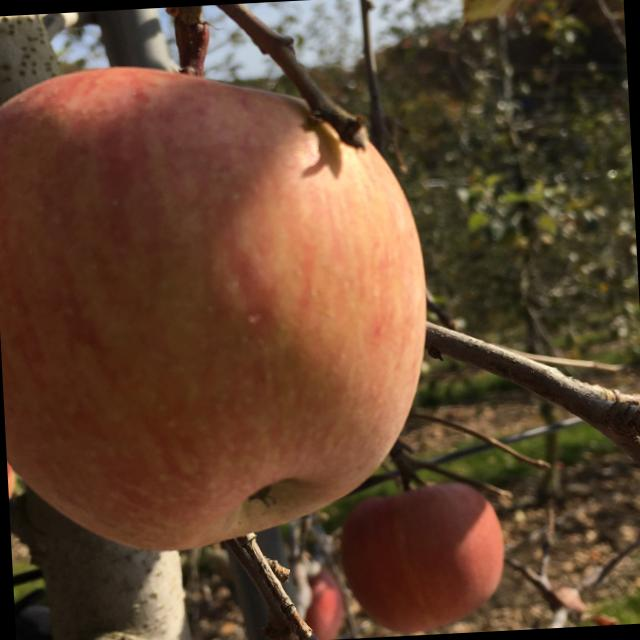fresh: (1, 48, 445, 568)
